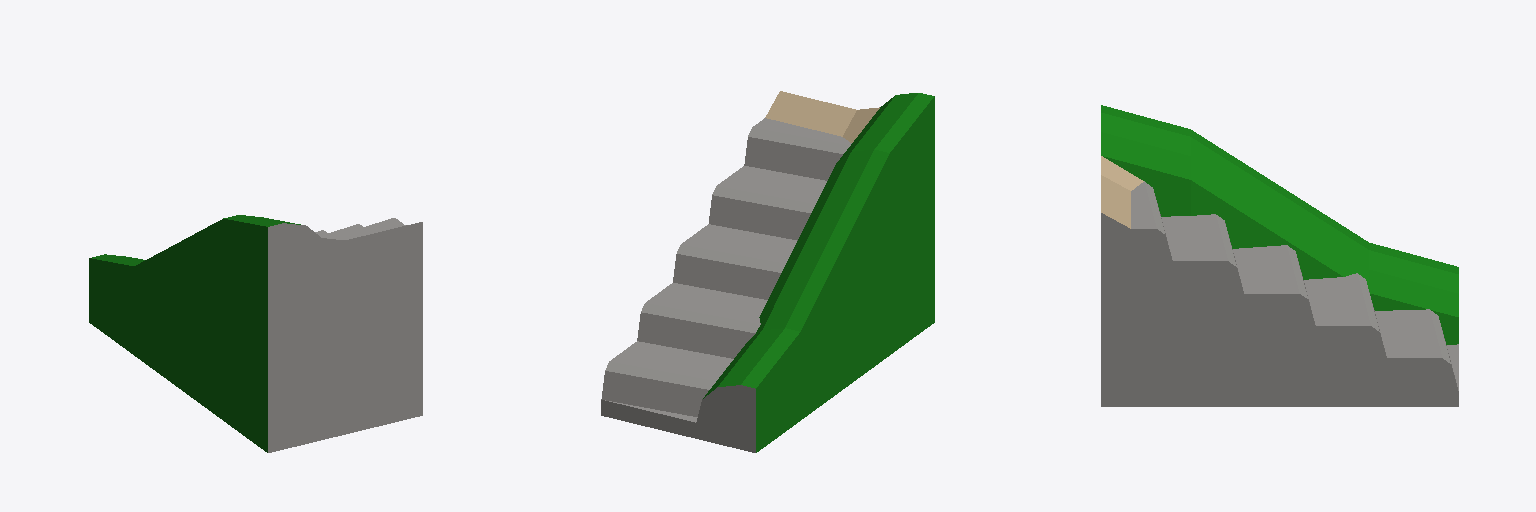
File: Path_Steps_Grass_Edge_Top.obj
3 views of the same model, side by side, from view 1: azimuth 30°, elevation 25°; view 2: azimuth 150°, elevation 25°; view 3: azimuth 270°, elevation 25° (orthographic).
Parts seen in each view (by area): view 1: object1; view 2: object1; view 3: object1.
Boxes of the visible parts, x1=… form: object1: x1=89, y1=215, x2=422, y2=452; object1: x1=601, y1=91, x2=934, y2=452; object1: x1=1101, y1=105, x2=1458, y2=406.
Size of the model in its own units: 1 by 1.4 by 2.